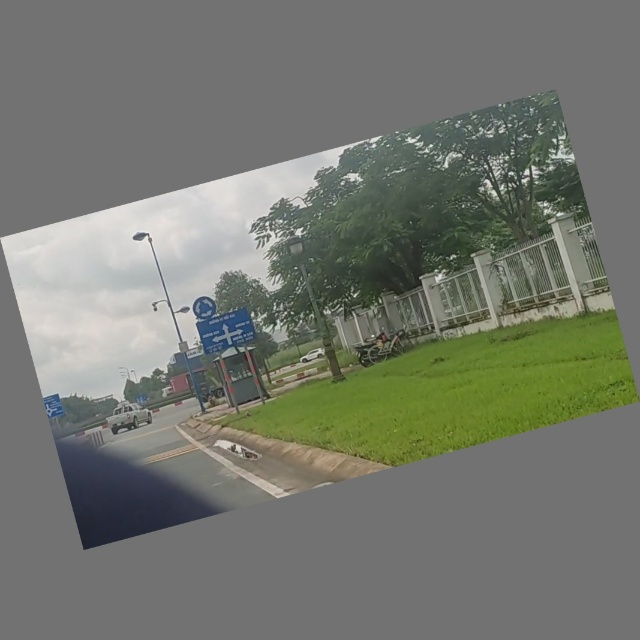R.303: (188, 292, 221, 324)
